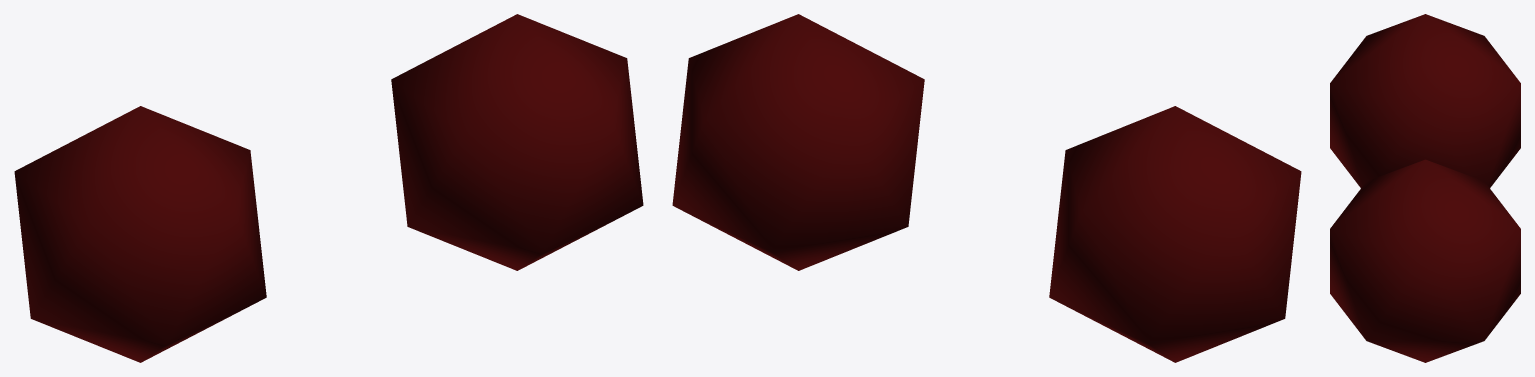
The model's file is eyes.obj.
3 views of the same model, side by side, from view 1: azimuth 30°, elevation 25°; view 2: azimuth 150°, elevation 25°; view 3: azimuth 270°, elevation 25° (orthographic). The views are drawn at different scales.
Visible parts, largest first — view 1: GeoSphere030; view 2: GeoSphere030; view 3: GeoSphere030.
Part boxes in pixels (x1,y1,x2,y2): GeoSphere030: [14, 14, 643, 362]; GeoSphere030: [672, 14, 1301, 362]; GeoSphere030: [1330, 14, 1520, 362].
Bounding box in the file's own units: 7.62 × 3.14 × 2.67.
